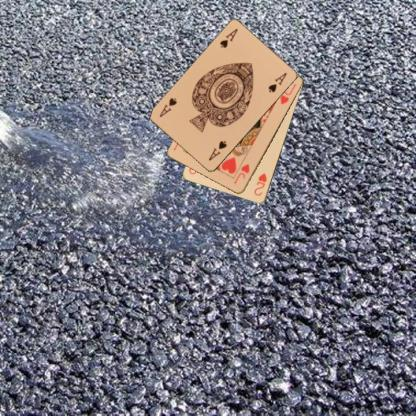2h: (251, 171, 268, 197)
As: (206, 138, 228, 162), (217, 26, 239, 50)
Jh: (231, 162, 251, 185)
